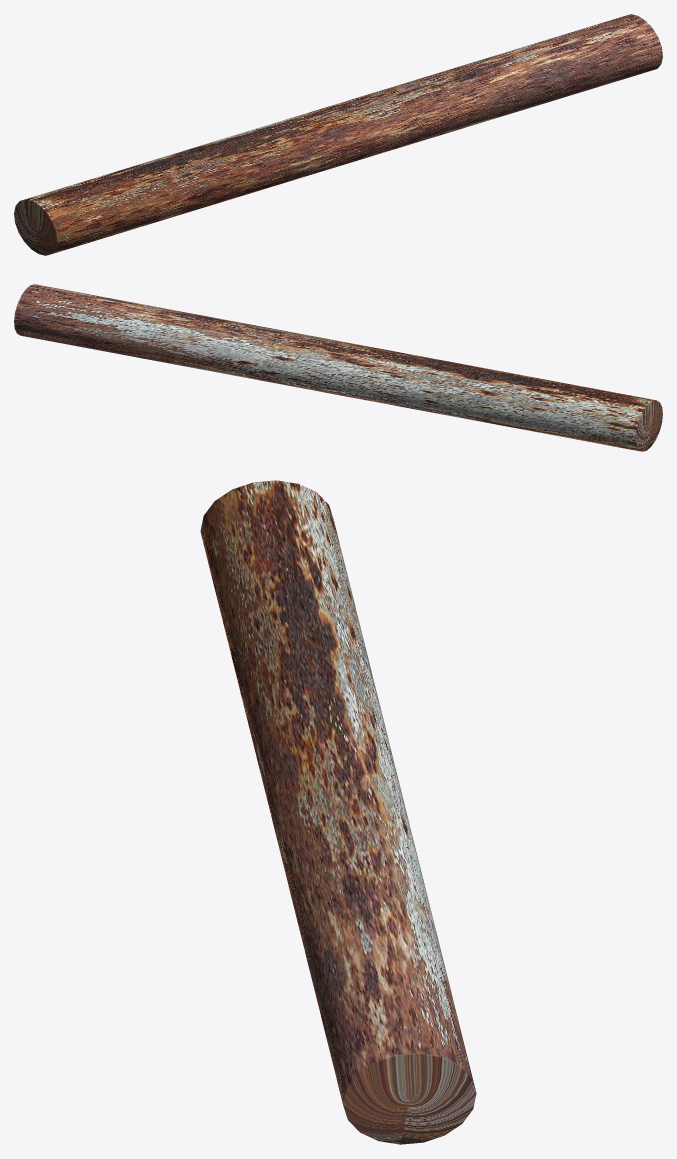
The model's file is metal(single).fbx.
3 views of the same model, one above another, from view 1: azimuth 30°, elevation 25°; view 2: azimuth 150°, elevation 25°; view 3: azimuth 270°, elevation 25° (orthographic). The views are drawn at different scales.
Parts seen in each view (by area): view 1: metal; view 2: metal; view 3: metal.
Boxes of the visible parts, x1,y1,x2,y2 form: metal: (14,14,662,255); metal: (14,284,662,451); metal: (200,480,476,1144).
Size of the model in its own units: 8.59 by 0.6339 by 1.73.
Materials: 1 (1 with a texture image).
